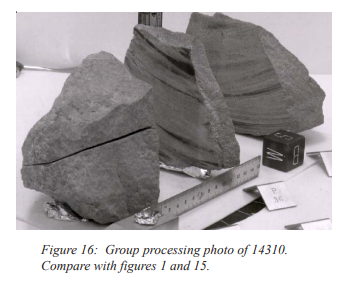Basalt: (127, 30, 322, 139), (47, 62, 166, 216)
